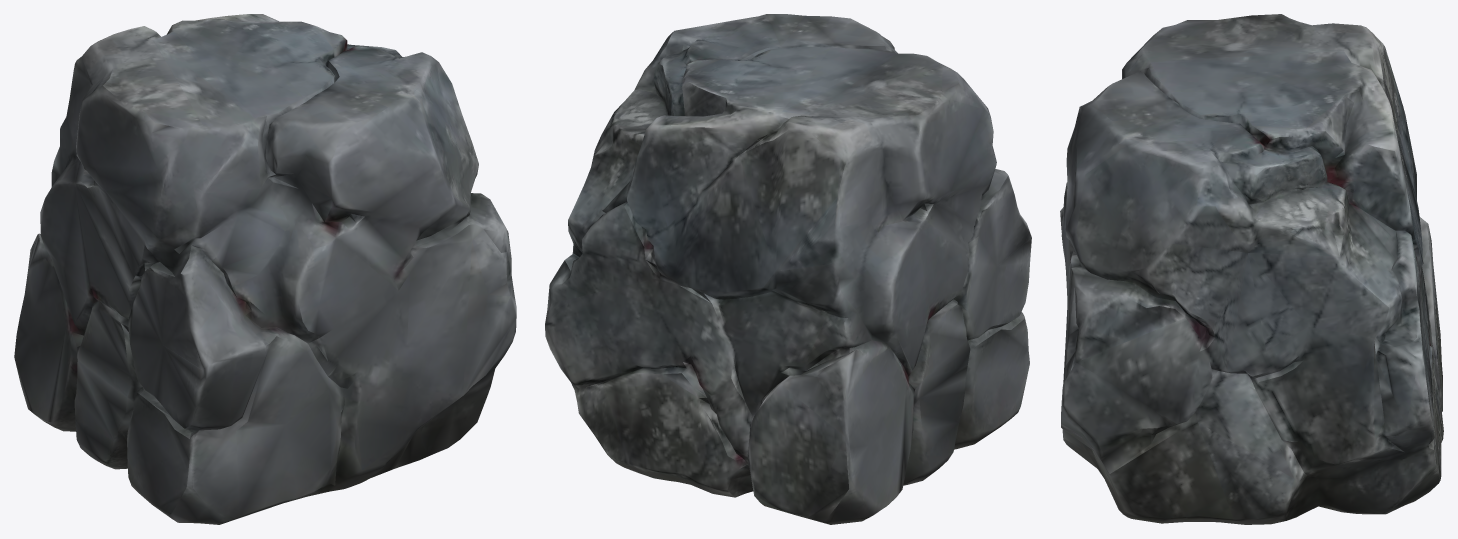
Rendered from rock.glb.
The picture shows the model from 3 angles, left to right: view 1: azimuth 30°, elevation 25°; view 2: azimuth 150°, elevation 25°; view 3: azimuth 270°, elevation 25°; orthographic projection. The views are drawn at different scales.
Visible parts, largest first — view 1: model; view 2: model; view 3: model.
Boxes of the visible parts, left/top/right/bottom form: model: left=14, top=14, right=516, bottom=524; model: left=545, top=14, right=1031, bottom=524; model: left=1060, top=14, right=1443, bottom=524.
Size of the model in its own units: 0.9178 by 1 by 0.9217.
1 material, 1 textured.
